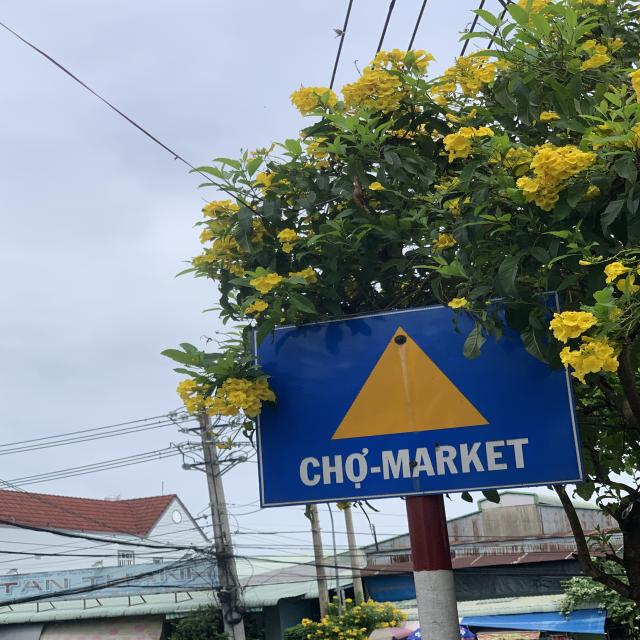Cho_Quay_Xe: (249, 288, 586, 508)
